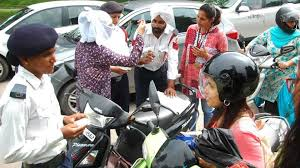helmet: (197, 50, 261, 111), (275, 2, 300, 33)
